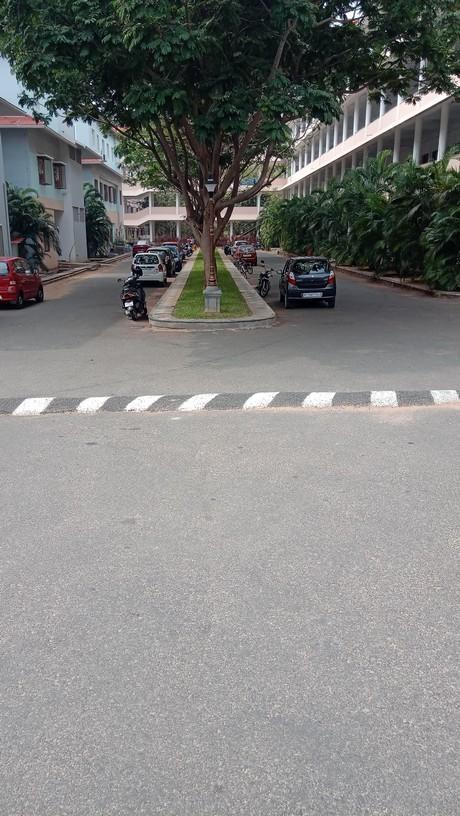speedbreaker: (5, 388, 458, 418)
